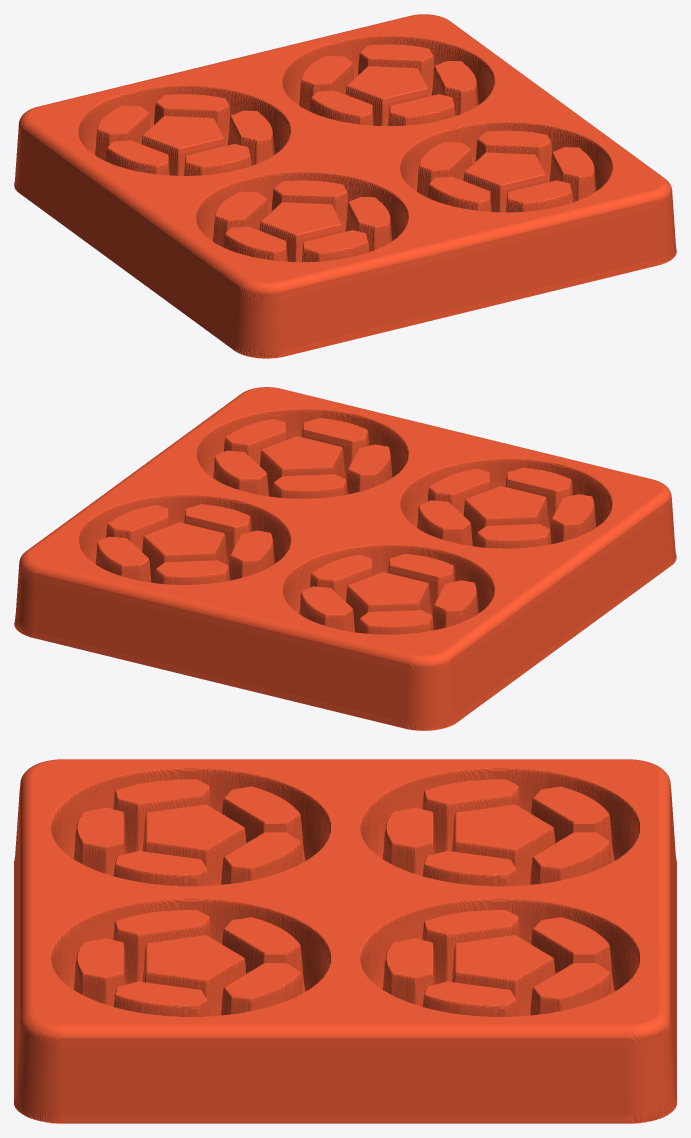
File: mold.glb
The picture shows the model from 3 angles, top to bottom: view 1: azimuth 30°, elevation 25°; view 2: azimuth 150°, elevation 25°; view 3: azimuth 270°, elevation 25°; orthographic projection. The views are drawn at different scales.
Parts seen in each view (by area): view 1: geometry_0; view 2: geometry_0; view 3: geometry_0.
Boxes of the visible parts, x1=… form: geometry_0: x1=14, y1=14, x2=676, y2=358; geometry_0: x1=14, y1=387, x2=676, y2=730; geometry_0: x1=14, y1=759, x2=676, y2=1123.
Size of the model in its own units: 0.1218 by 0.0185 by 0.1218.
